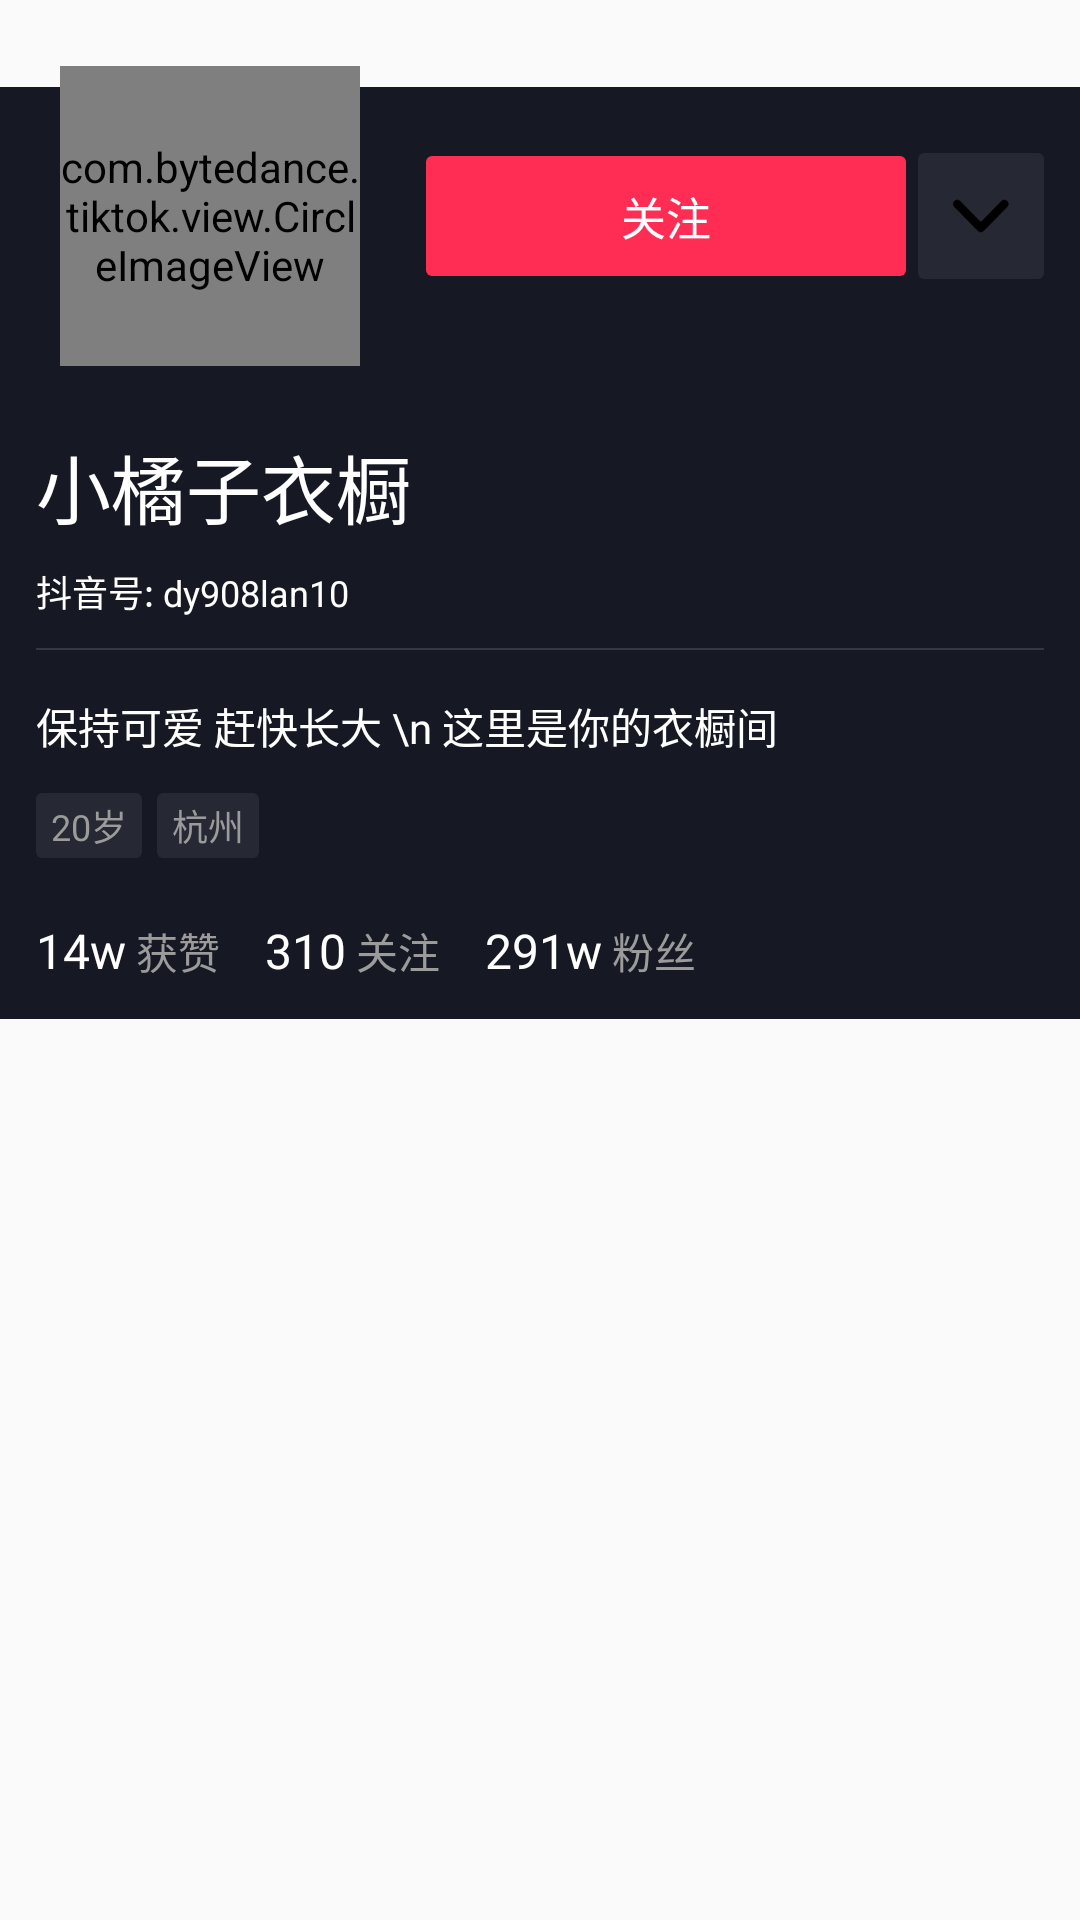

Icons on this 1080w x 1920h Android screen, each with its box as region(x1, y1, x2, y2):
down arrow: region(953, 200, 1009, 232)
